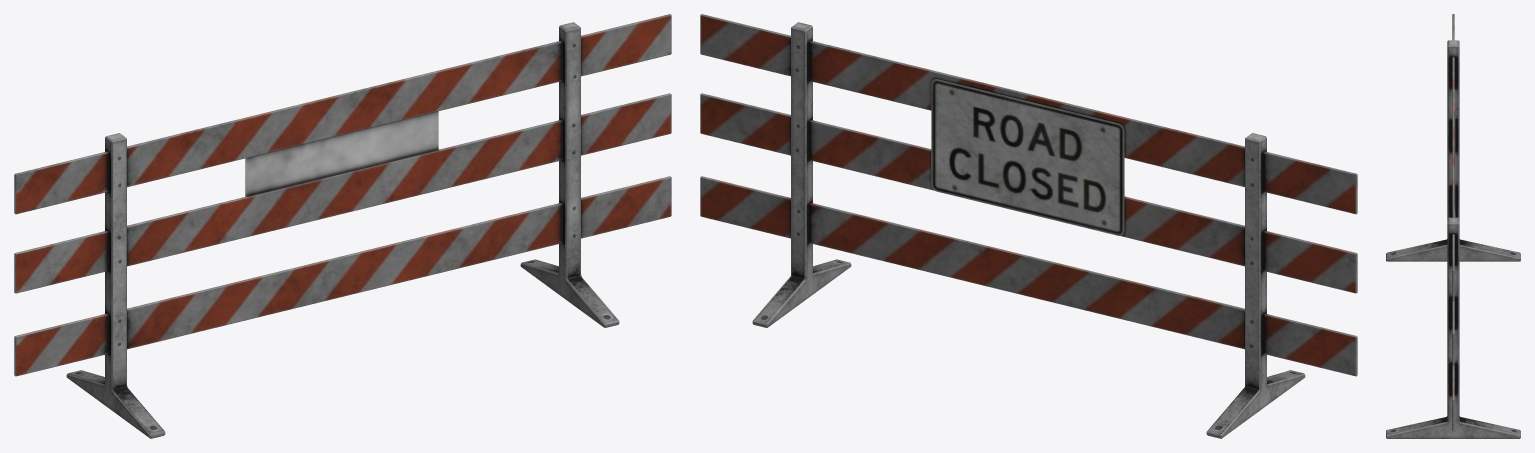
File: roadworks barrier.fbx
The picture shows the model from 3 angles, left to right: view 1: azimuth 30°, elevation 25°; view 2: azimuth 150°, elevation 25°; view 3: azimuth 270°, elevation 25°; orthographic projection. The views are drawn at different scales.
Visible parts, largest first — view 1: pCube56; view 2: pCube56; view 3: pCube56.
Part boxes in pixels (x1,y1,x2,y2): pCube56: (14, 14, 671, 438); pCube56: (700, 14, 1357, 438); pCube56: (1386, 14, 1520, 438).
Bounding box in the file's own units: 474 × 186 × 105.
